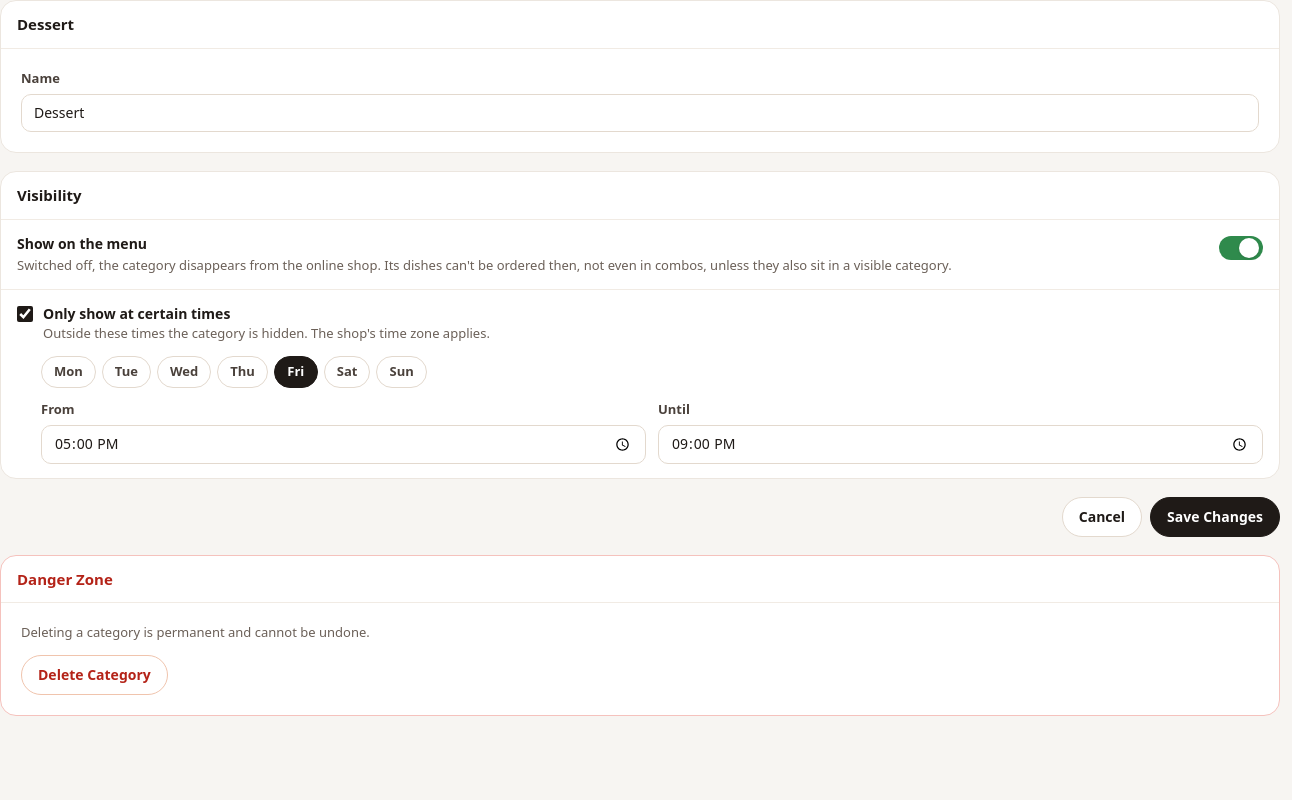
Test case: CategoryEditor schedule › clears the schedule when unticked and saved
Later steps or results of the test are not shown.
Step 1. Click the checkbox labelled "Only show at certain times" → x=25, y=314, box [17,306,33,322]
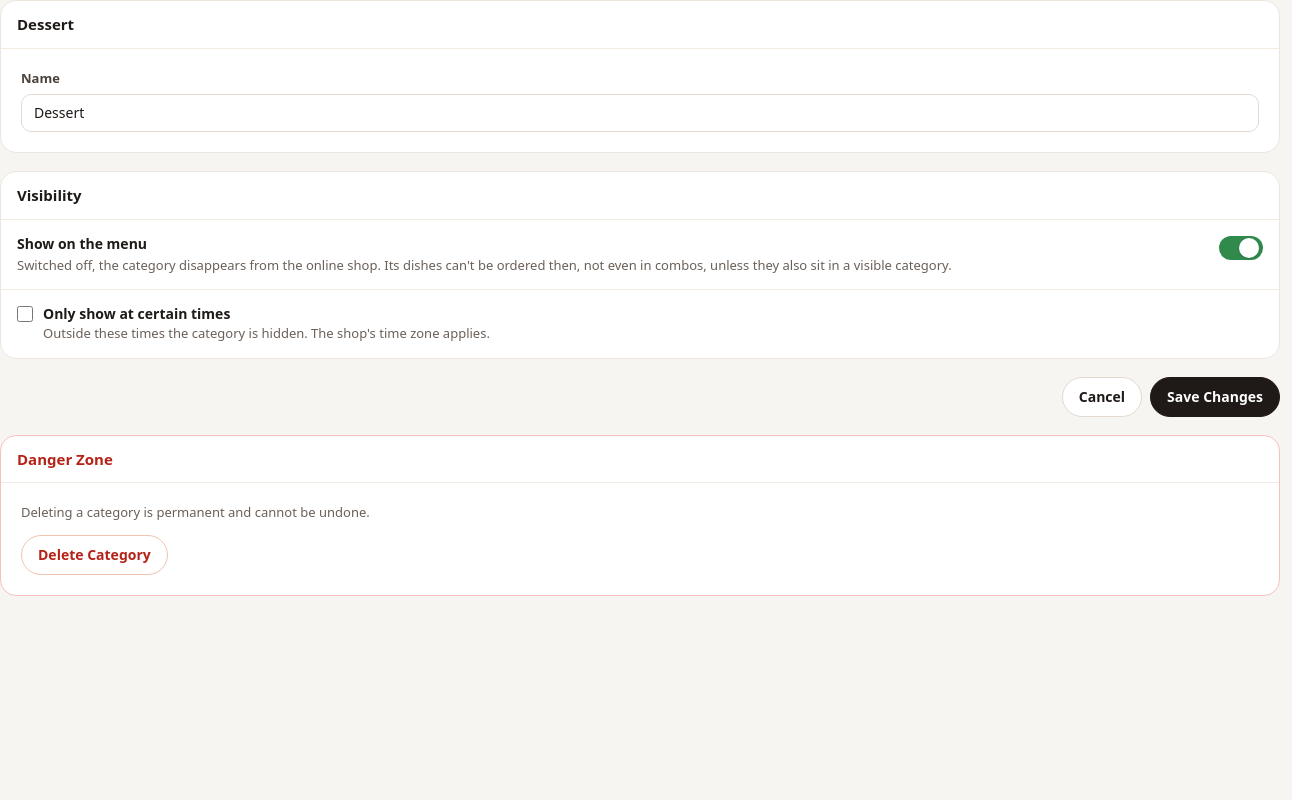
Expected: the checkbox labelled "Only show at certain times" is not checked, [17,306,33,322]
